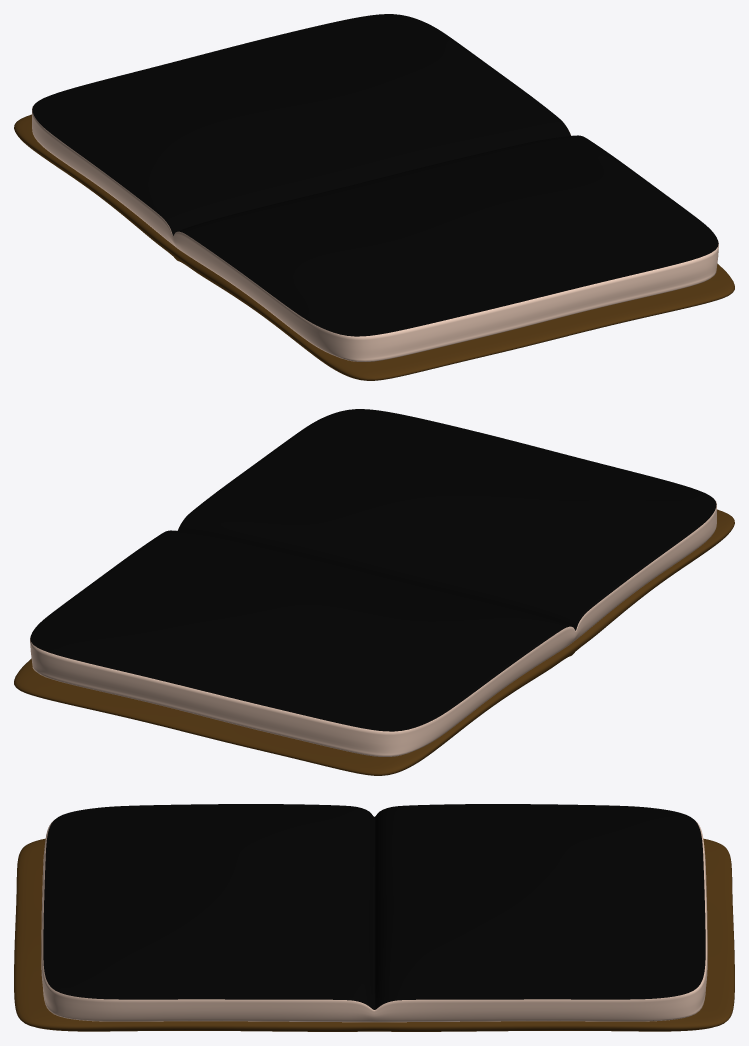
File: Book&Table.fbx
The picture shows the model from 3 angles, top to bottom: view 1: azimuth 30°, elevation 25°; view 2: azimuth 150°, elevation 25°; view 3: azimuth 270°, elevation 25°; orthographic projection.
Visible parts, largest first — view 1: Plane; view 2: Plane; view 3: Plane.
Boxes of the visible parts, bbox=[...] form: Plane: bbox=[14, 14, 734, 380]; Plane: bbox=[14, 409, 734, 775]; Plane: bbox=[14, 804, 734, 1031].
Size of what is drawn, in the model's own units: 195 by 22.66 by 306.
